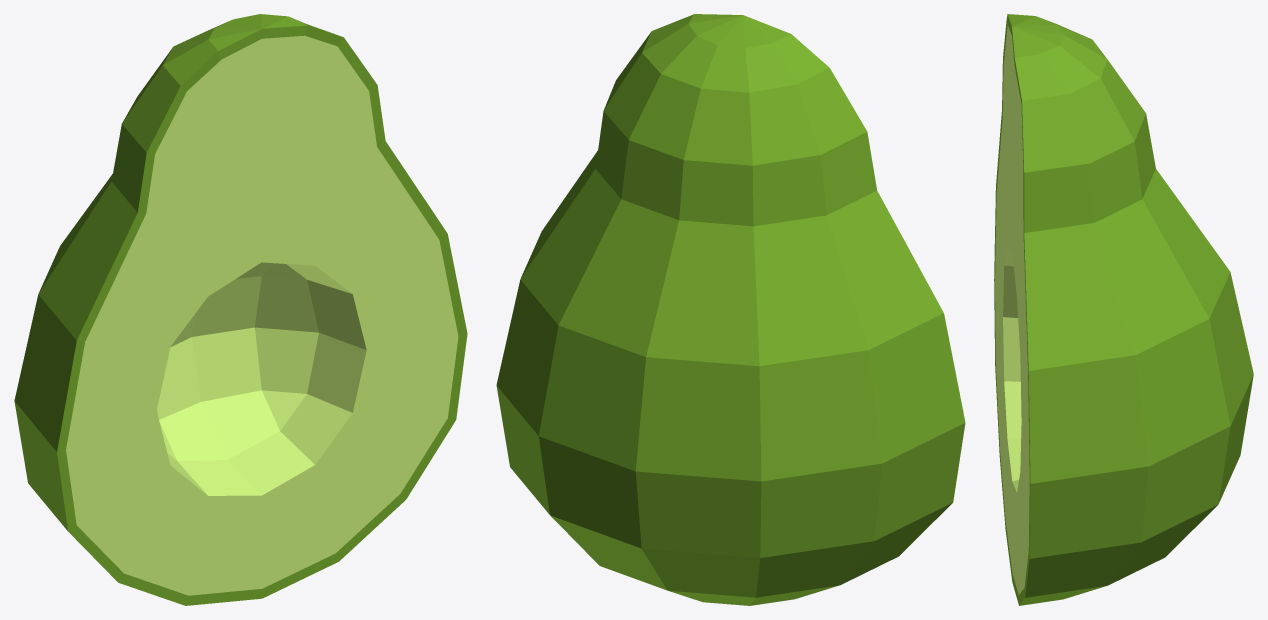
File: avocado-boneless.fbx
3 views of the same model, side by side, from view 1: azimuth 30°, elevation 25°; view 2: azimuth 150°, elevation 25°; view 3: azimuth 270°, elevation 25° (orthographic). The views are drawn at different scales.
Parts seen in each view (by area): view 1: Sphere.014; view 2: Sphere.014; view 3: Sphere.014.
Part boxes in pixels (x1,y1,x2,y2): Sphere.014: (14, 14, 467, 605); Sphere.014: (496, 14, 965, 605); Sphere.014: (994, 14, 1253, 605).
Bounding box in the file's own units: 90.5 × 115 × 48.66.
